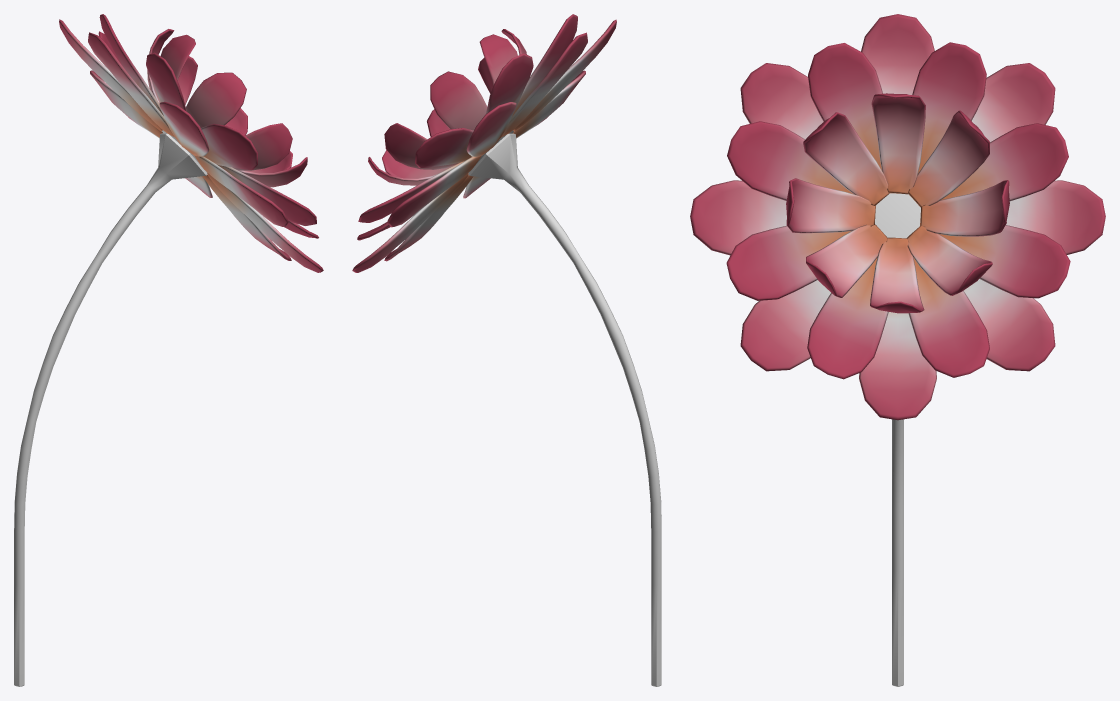
The model's file is Flower.fbx.
3 renders of one model, left to right at view 1: azimuth 30°, elevation 25°; view 2: azimuth 150°, elevation 25°; view 3: azimuth 270°, elevation 25°, orthographic. The views are drawn at different scales.
Visible parts, largest first — view 1: Stem_geo, SmallestPetal_geo1, MiddleExtendedPetal_geo1, ExtendedPetal_geo, ExtendedPetal_geo2, ExtendedPetal_geo3, SmallestPetal_geo2, ExtendedPetal_geo1, MiddleExtendedPetal_geo2, ExtendedPetal_geo7, MiddleExtendedPetal_geo, MiddleExtendedPetal_geo7 (+5 smaller); view 2: Stem_geo, SmallestPetal_geo7, MiddleExtendedPetal_geo6, ExtendedPetal_geo, ExtendedPetal_geo6, MiddleExtendedPetal_geo7, ExtendedPetal_geo5, ExtendedPetal_geo7, MiddleExtendedPetal_geo, SmallestPetal_geo6, ExtendedPetal_geo1, SmallestPetal_geo (+5 smaller); view 3: MiddleExtendedPetal_geo3, MiddleExtendedPetal_geo4, ExtendedPetal_geo4, MiddleExtendedPetal_geo2, MiddleExtendedPetal_geo5, MiddleExtendedPetal_geo6, MiddleExtendedPetal_geo1, ExtendedPetal_geo5, ExtendedPetal_geo3, MiddleExtendedPetal_geo7, MiddleExtendedPetal_geo, ExtendedPetal_geo2 (+14 smaller).
Part boxes in pixels (<box>): Stem_geo: <box>14,133,206,686</box>; SmallestPetal_geo1: <box>186,72,246,127</box>; MiddleExtendedPetal_geo1: <box>201,123,257,169</box>; ExtendedPetal_geo: <box>88,32,174,136</box>; ExtendedPetal_geo2: <box>194,155,288,226</box>; ExtendedPetal_geo3: <box>207,173,323,272</box>; SmallestPetal_geo2: <box>233,123,292,170</box>; ExtendedPetal_geo1: <box>159,101,209,156</box>; MiddleExtendedPetal_geo2: <box>217,164,316,225</box>; ExtendedPetal_geo7: <box>59,19,162,131</box>; MiddleExtendedPetal_geo: <box>146,52,186,111</box>; MiddleExtendedPetal_geo7: <box>99,14,163,115</box>; Stem_geo: <box>469,133,661,686</box>; SmallestPetal_geo7: <box>430,71,487,130</box>; MiddleExtendedPetal_geo6: <box>415,128,473,167</box>; ExtendedPetal_geo: <box>501,32,587,137</box>; ExtendedPetal_geo6: <box>387,156,481,227</box>; MiddleExtendedPetal_geo7: <box>486,53,533,113</box>; ExtendedPetal_geo5: <box>352,173,468,272</box>; ExtendedPetal_geo7: <box>466,102,516,156</box>; MiddleExtendedPetal_geo: <box>512,14,577,115</box>; SmallestPetal_geo6: <box>384,123,458,169</box>; ExtendedPetal_geo1: <box>513,19,616,131</box>; SmallestPetal_geo: <box>479,34,517,85</box>; MiddleExtendedPetal_geo3: <box>807,258,888,379</box>; MiddleExtendedPetal_geo4: <box>908,258,989,377</box>; ExtendedPetal_geo4: <box>859,312,936,420</box>; MiddleExtendedPetal_geo2: <box>726,225,850,300</box>; MiddleExtendedPetal_geo5: <box>939,225,1070,298</box>; MiddleExtendedPetal_geo6: <box>941,123,1068,201</box>; MiddleExtendedPetal_geo1: <box>727,121,852,200</box>; ExtendedPetal_geo5: <box>963,279,1055,371</box>; ExtendedPetal_geo3: <box>740,280,830,371</box>; MiddleExtendedPetal_geo7: <box>912,42,986,173</box>; MiddleExtendedPetal_geo: <box>808,43,882,169</box>; ExtendedPetal_geo2: <box>690,180,786,255</box>.
Size of the model in its own units: 10.92 by 23.99 by 12.67.
